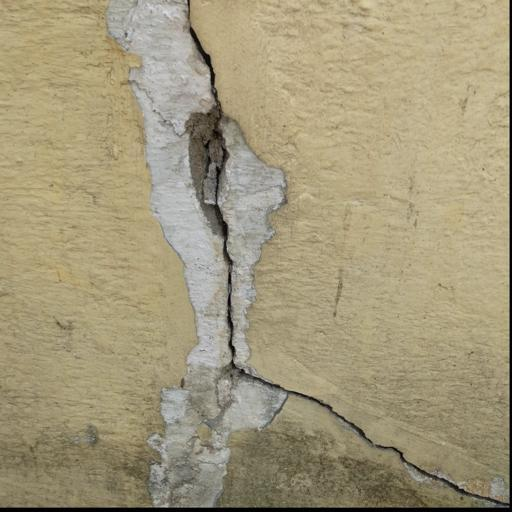major_crack: (152, 0, 507, 506)
